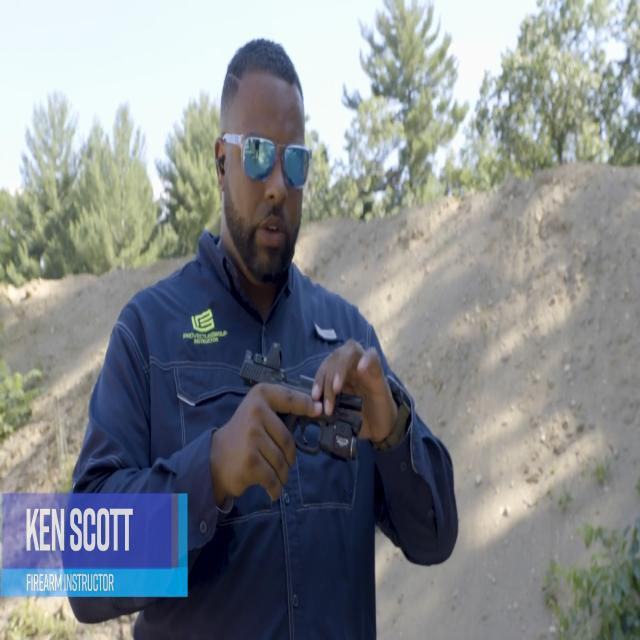Gun_Holder: (230, 329, 366, 497)
Person: (62, 38, 461, 640)
